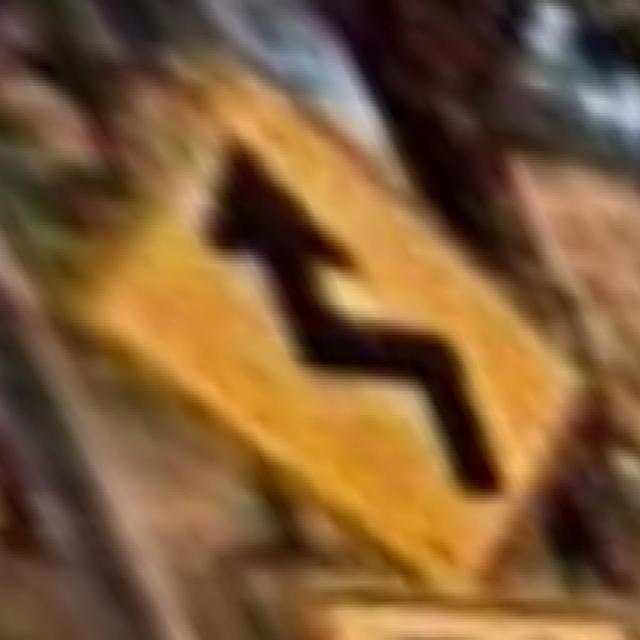Tikungan Ganda Pertama Ke Kiri: (80, 36, 580, 607)
